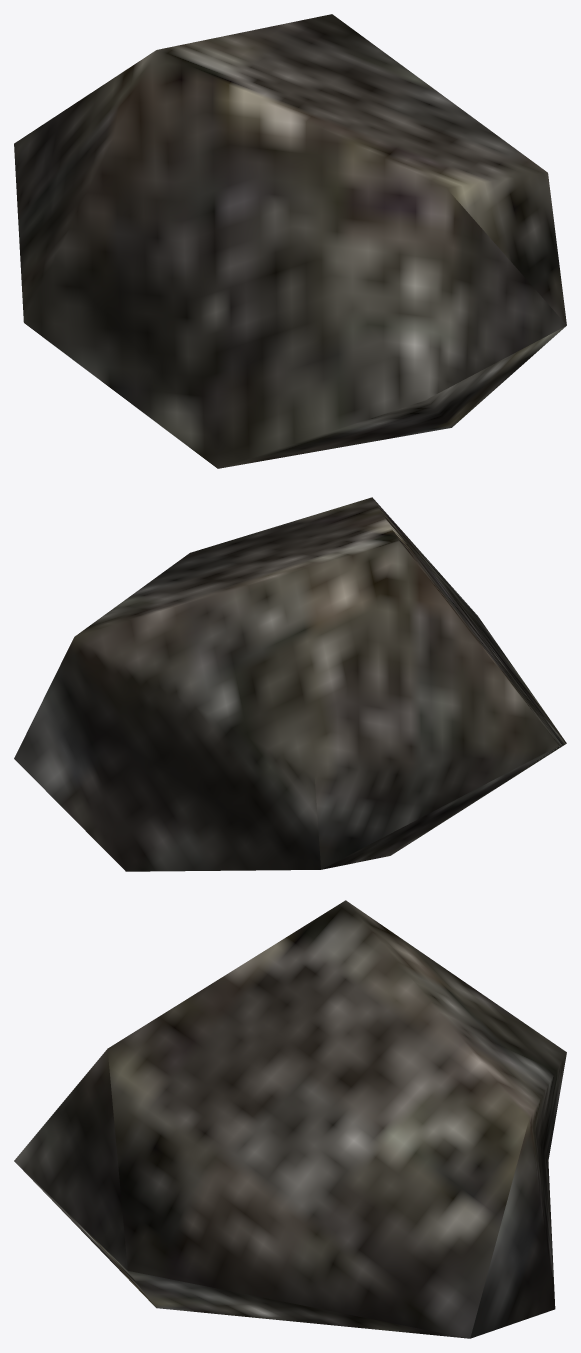
File: Rock2_7.fbx
The picture shows the model from 3 angles, top to bottom: view 1: azimuth 30°, elevation 25°; view 2: azimuth 150°, elevation 25°; view 3: azimuth 270°, elevation 25°; orthographic projection. The views are drawn at different scales.
Visible parts, largest first — view 1: Rock2_LOD_7; view 2: Rock2_LOD_7; view 3: Rock2_LOD_7.
Boxes of the visible parts, x1,y1,x2,y2 form: Rock2_LOD_7: (14, 14, 566, 468); Rock2_LOD_7: (14, 497, 566, 871); Rock2_LOD_7: (14, 900, 566, 1338).
Bounding box in the file's own units: 1.16 × 0.7397 × 1.13.
